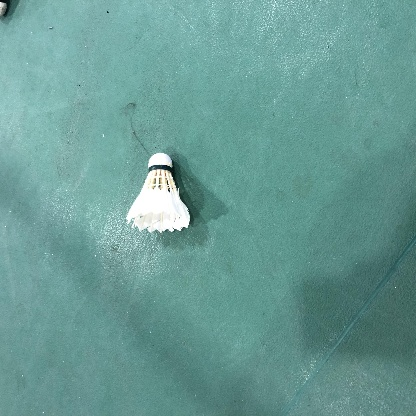ball_single: (126, 153, 190, 233)
